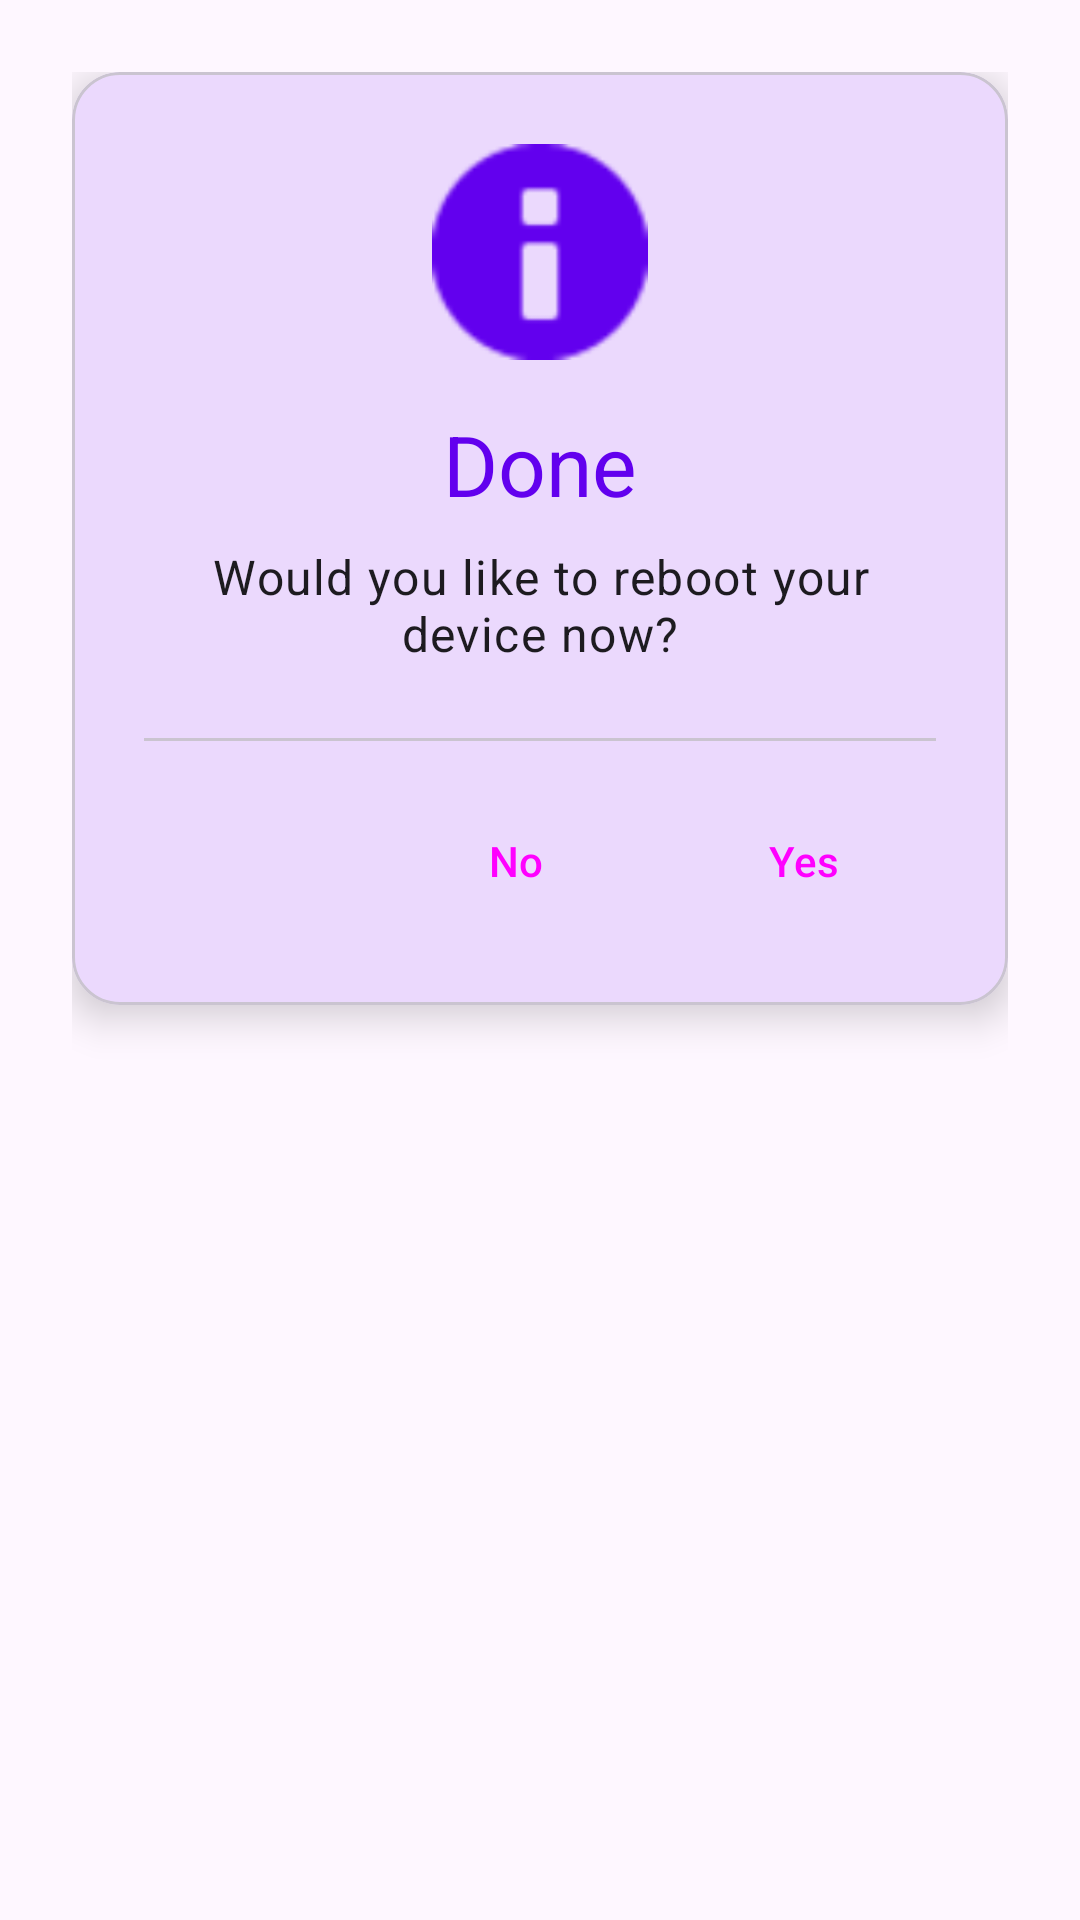

Locate icon controls on the screen. Image size 1080px×1920px, boxes as {"left": x1, "top": y1, "right": x2, "bottom": y2}.
info: {"left": 432, "top": 144, "right": 648, "bottom": 360}
